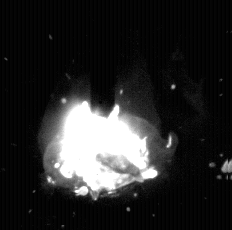arame: (91, 0, 117, 118)
poca: (37, 0, 163, 230)
